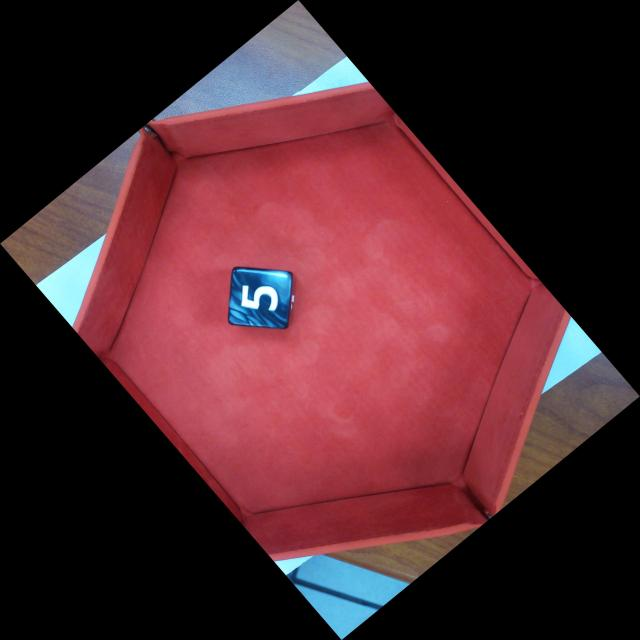dice: (224, 265, 296, 331)
